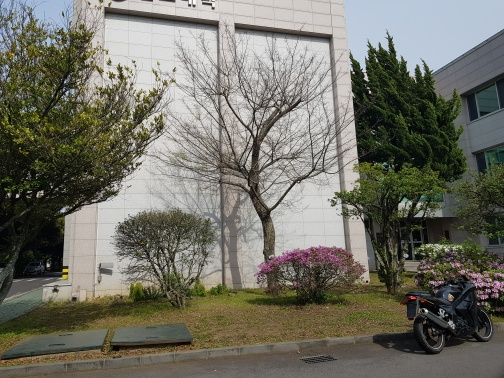College of Nursing: (46, 5, 485, 266)
